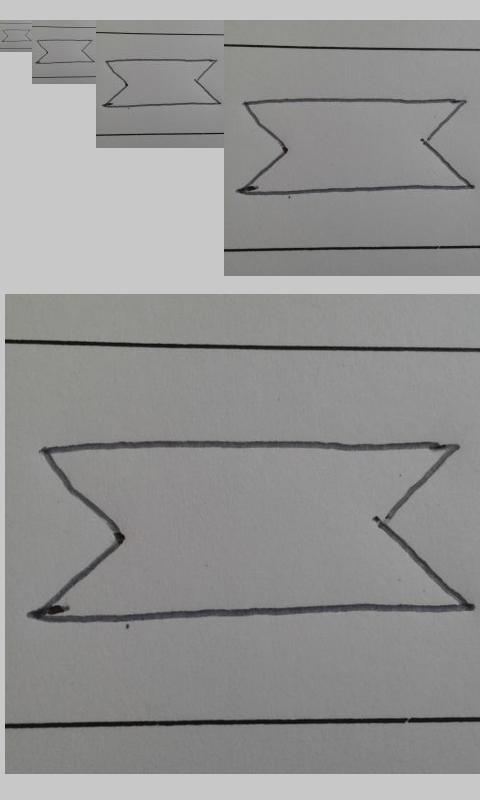edit_text: (30, 435, 472, 626), (236, 95, 472, 197), (103, 58, 220, 108), (36, 38, 94, 65), (1, 28, 31, 43)
